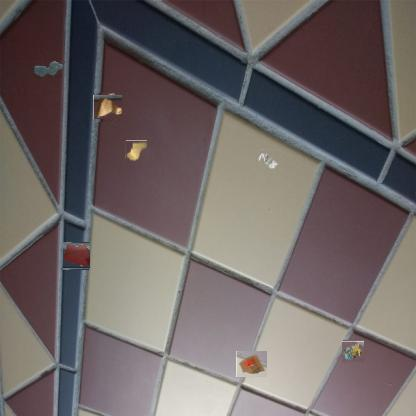dirty: (238, 350, 266, 379), (95, 94, 121, 121), (125, 140, 147, 161), (343, 341, 364, 362), (256, 149, 278, 169)
liquid: (63, 242, 90, 270), (33, 60, 63, 78)
